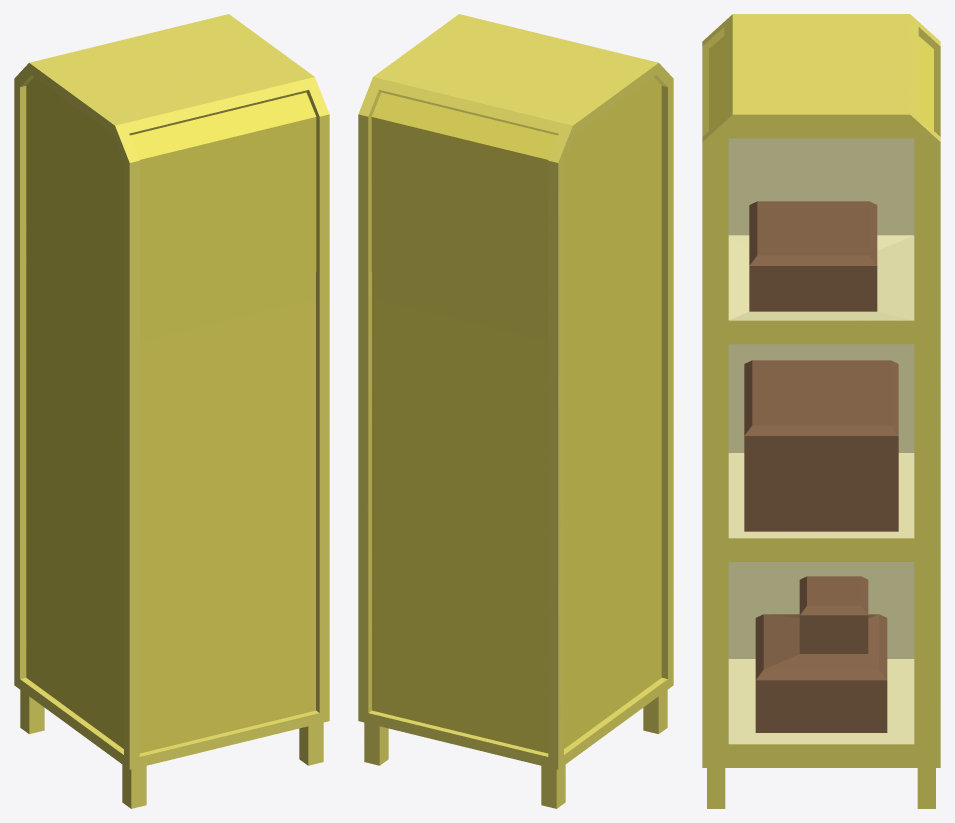
Rendered from storageUnit.glb.
3 renders of one model, left to right at view 1: azimuth 30°, elevation 25°; view 2: azimuth 150°, elevation 25°; view 3: azimuth 270°, elevation 25°, orthographic. The views are drawn at different scales.
Visible parts, largest first — view 1: StorageUnit; view 2: StorageUnit; view 3: StorageUnit.
Part boxes in pixels (x1,y1,x2,y2): StorageUnit: [14, 14, 329, 808]; StorageUnit: [358, 14, 673, 808]; StorageUnit: [702, 14, 940, 808].
Size of the model in its own units: 2.48 by 8.01 by 2.48.
1 material, 1 textured.
